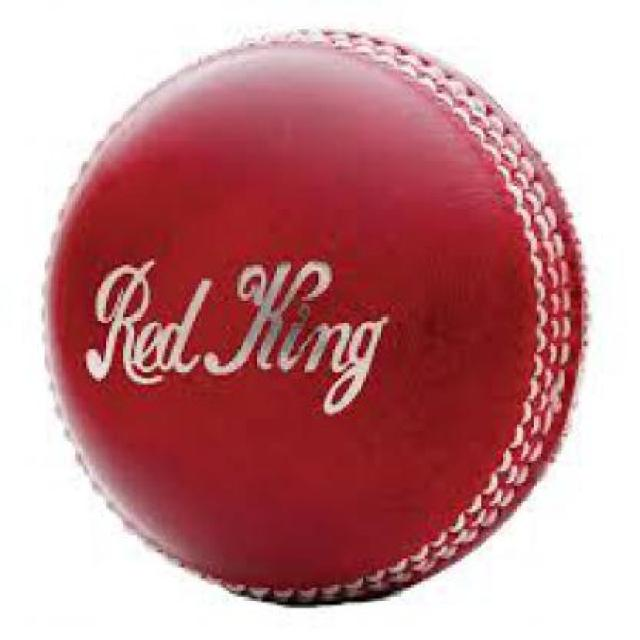ball: (14, 8, 640, 622)
